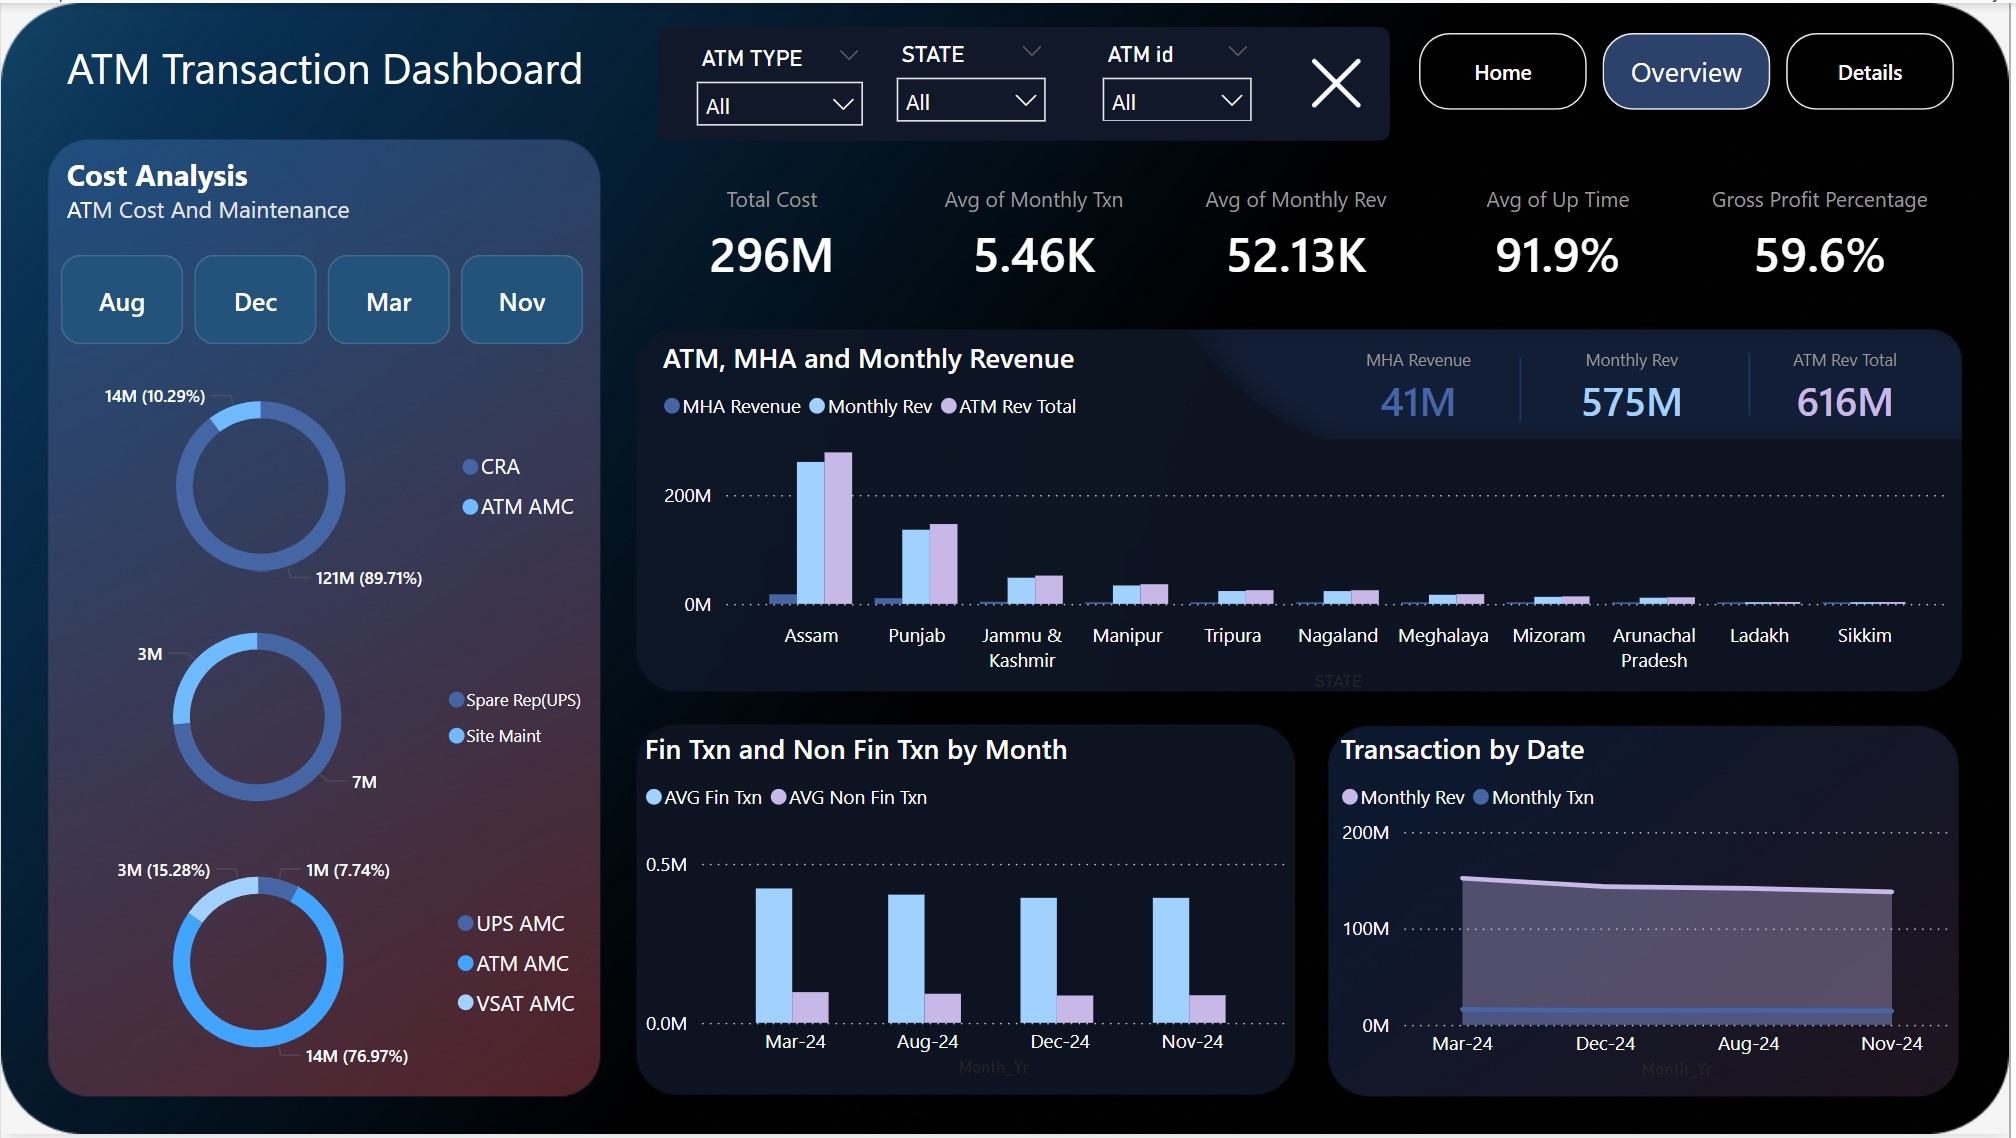

What the dashboard file says about the page in this screenshot:
{"tool":"powerbi","page":{"name":"Overview","canvas":[1280,720],"ordinal":1},"visuals":[{"type":"donutChart","fields":{"Y":["Sum(Dataset.CRA)","Sum(Dataset.ATM AMC)"]},"box":[33.1,232,346.8,151.7],"z":0},{"type":"donutChart","fields":{"Y":["Sum(Dataset.UPS AMC)","Sum(Dataset.ATM AMC)","Sum(Dataset.VSAT AMC)"]},"box":[33.1,534.2,346.8,153],"z":1000},{"type":"shape","box":[419.4,15.1,466,72.6],"z":2000,"group":"g1"},{"type":"donutChart","fields":{"Y":["Sum(Dataset.Spare Rep.(UPS))","Sum(Dataset.Site Maint (Non Asset))"]},"box":[37,378.6,346.8,151.7],"z":2000},{"type":"slicer","fields":{"Values":["Dataset.ATM TYPE"]},"box":[434,21.8,126.1,64.4],"z":3000,"group":"g1"},{"type":"clusteredColumnChart","title":"ATM, MHA and Monthly Revenue","fields":{"Y":["Sum(Dataset.MHA Revenue)","Sum(Dataset.Monthly Rev)","Sum(Dataset.ATM Rev Total)"],"Category":["Dataset.STATE"]},"box":[416.9,214.2,830,228.2],"z":3000},{"type":"slicer","fields":{"Values":["Dataset.STATE"]},"box":[561.4,19.1,115.1,57.6],"z":4000,"group":"g1"},{"type":"clusteredColumnChart","title":"Fin Txn and Non Fin Txn by Month","fields":{"Y":["Sum(Dataset.AVG Fin Txn)","Sum(Dataset.AVG Non Fin Txn)"],"Category":["Dataset.Month_Yr"]},"box":[405.4,462.8,418.2,225.7],"z":4000},{"type":"slicer","fields":{"Values":["Dataset.ATM id"]},"box":[691.6,19.1,115.1,56.2],"z":5000,"group":"g1"},{"type":"areaChart","title":"Transaction by Date","fields":{"Category":["Dataset.Month_Yr"],"Y":["Sum(Dataset.Monthly Rev)","Sum(Dataset.Monthly Txn)"]},"box":[849.1,462.8,397.8,226.9],"z":5000},{"type":"image","box":[829.2,30.2,45.2,41.1],"z":5500,"group":"g1"},{"type":"advancedSlicerVisual","fields":{"Values":["Dataset.Short_Month"]},"box":[33.1,155.5,346.8,67.6],"z":6000},{"type":"textbox","box":[37,91.8,238.4,59.9],"z":7000},{"type":"cardVisual","fields":{"Data":["Sum(Dataset. Total Cost  )","Avg(Dataset.Monthly Txn)","Avg(Dataset.Monthly Rev)","Avg(Dataset.Up Time)","Dataset.Gross Profit Percentage"]},"box":[405.4,91.8,841.4,110.9],"z":8000},{"type":"cardVisual","fields":{"Data":["Sum(Dataset.MHA Revenue)","Sum(Dataset.Monthly Rev)","Sum(Dataset.ATM Rev Total)"]},"box":[832.5,202.7,414.3,75.2],"z":9000},{"type":"pageNavigator","box":[903.9,19.1,342.9,49.7],"z":10000},{"type":"textbox","box":[37,17.8,368.4,52.3],"z":11000},{"type":"group","id":"g1","title":"Group 1","box":[419.4,15.1,466,72.6],"z":12000}]}

Visuals, with their boxes in screenshot pixels (x1, y1, x2, y2), scaled from the page's 1280x720 canvas onto the 2016x1138 screenshot:
donutChart - Sum(Dataset.CRA) x Sum(Dataset.ATM AMC): (52, 367, 598, 606)
donutChart - Sum(Dataset.UPS AMC) x Sum(Dataset.ATM AMC): (52, 844, 598, 1086)
shape: (661, 24, 1395, 139)
donutChart - Sum(Dataset.Spare Rep.(UPS)) x Sum(Dataset.Site Maint (Non Asset)): (58, 598, 604, 838)
slicer - Dataset.ATM TYPE: (684, 34, 882, 136)
"ATM, MHA and Monthly Revenue" clusteredColumnChart: (657, 339, 1964, 699)
slicer - Dataset.STATE: (884, 30, 1065, 121)
"Fin Txn and Non Fin Txn by Month" clusteredColumnChart: (639, 731, 1297, 1088)
slicer - Dataset.ATM id: (1089, 30, 1271, 119)
"Transaction by Date" areaChart: (1337, 731, 1964, 1090)
image: (1306, 48, 1377, 113)
advancedSlicerVisual - Dataset.Short_Month: (52, 246, 598, 353)
textbox: (58, 145, 434, 240)
cardVisual - Sum(Dataset. Total Cost  ) x Avg(Dataset.Monthly Txn): (639, 145, 1964, 320)
cardVisual - Sum(Dataset.MHA Revenue) x Sum(Dataset.Monthly Rev): (1311, 320, 1964, 439)
pageNavigator: (1424, 30, 1964, 109)
textbox: (58, 28, 639, 111)
"Group 1" group: (661, 24, 1395, 139)
